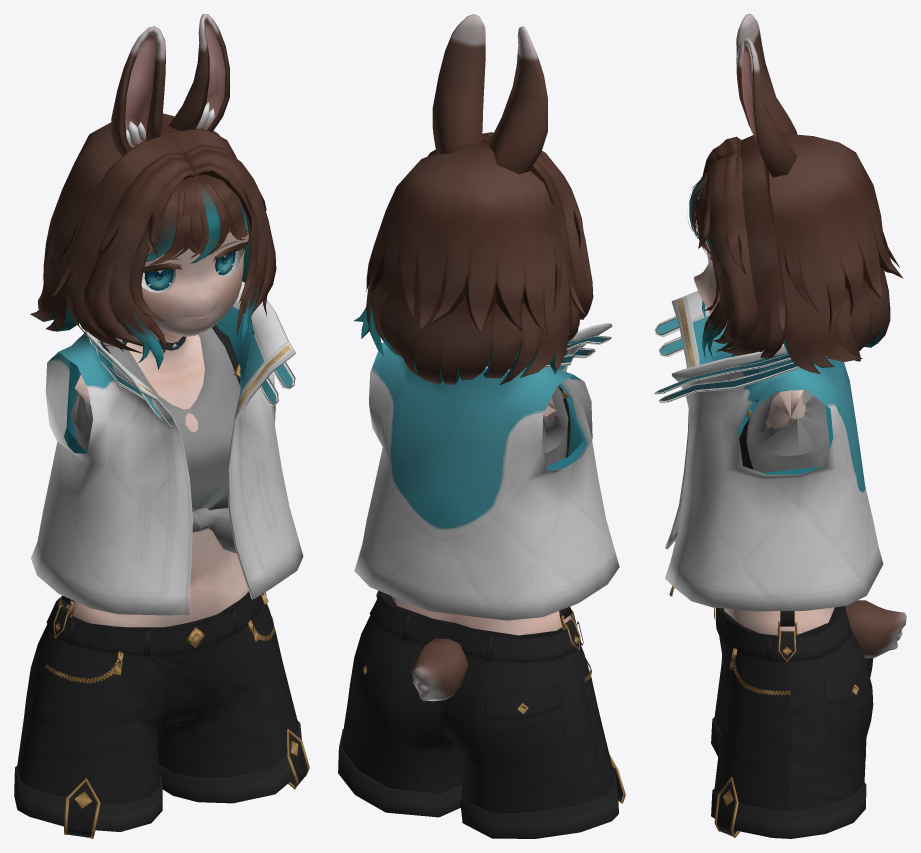
The model's file is KOSHIRO_Cuerpo.obj.
The picture shows the model from 3 angles, left to right: view 1: azimuth 30°, elevation 25°; view 2: azimuth 150°, elevation 25°; view 3: azimuth 270°, elevation 25°; orthographic projection. The views are drawn at different scales.
Parts seen in each view (by area): view 1: Cuerpo_face_Plane.002; view 2: Cuerpo_face_Plane.002; view 3: Cuerpo_face_Plane.002.
Part boxes in pixels (x1,y1,x2,y2): Cuerpo_face_Plane.002: (14,14,309,838); Cuerpo_face_Plane.002: (338,14,625,838); Cuerpo_face_Plane.002: (654,14,906,838).
Bounding box in the file's own units: 0.3427 × 0.9323 × 0.2786.
